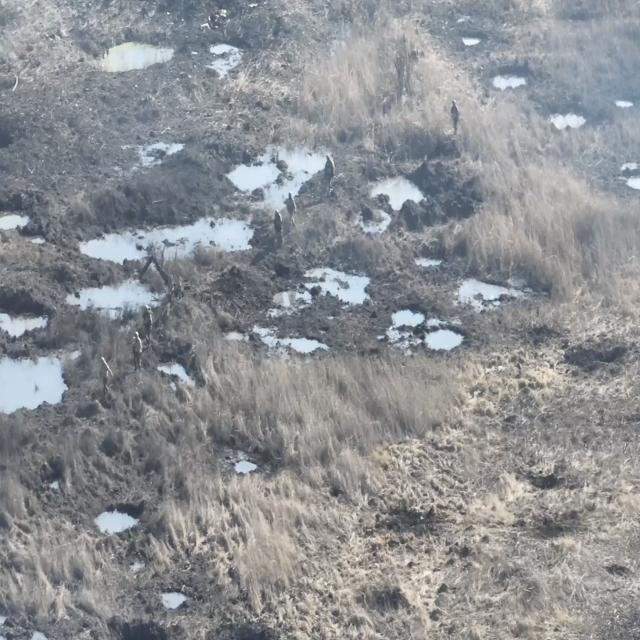infantry: (98, 353, 112, 398), (131, 329, 143, 375), (323, 152, 335, 197), (272, 208, 284, 251), (287, 188, 298, 232), (142, 302, 153, 346), (450, 97, 460, 136)
